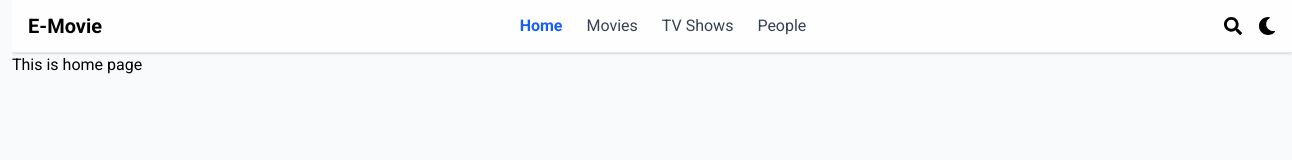
Scenario: test urls work in navbar home,people and tv shows
This screenshot has width=1292, height=160.
What coordinates should you click on to do the following:
click the link "Home"
I would click on:
 (541, 26)
Its box is [520, 14, 562, 38].
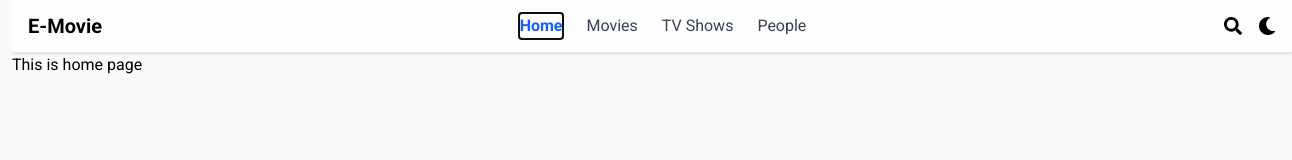
Check: the text "This is home page" is shown, box [12, 55, 142, 74]
What coordinates should you click on to do the following:
click the link "Movies"
I would click on:
 (612, 26)
Its box is [586, 14, 638, 38].
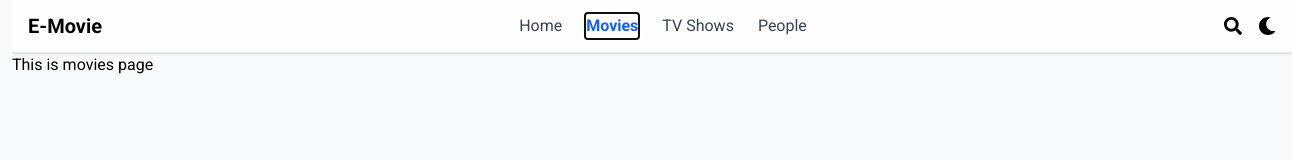
Check: the text "This is movies page" is shown, box [12, 55, 153, 74]
What coordinates should you click on to do the following:
click the link "TV Shows"
I would click on:
 (698, 26)
Its box is [662, 14, 734, 38].
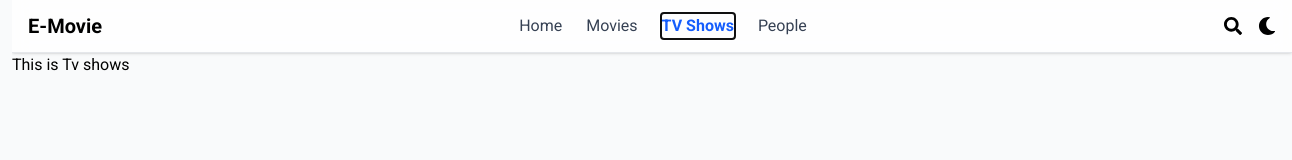
Check: the text "This is Tv shows" is shown, box [12, 55, 130, 74]
What coordinates should you click on to do the following:
click the link "People"
I would click on:
 (782, 26)
Its box is [758, 14, 807, 38].
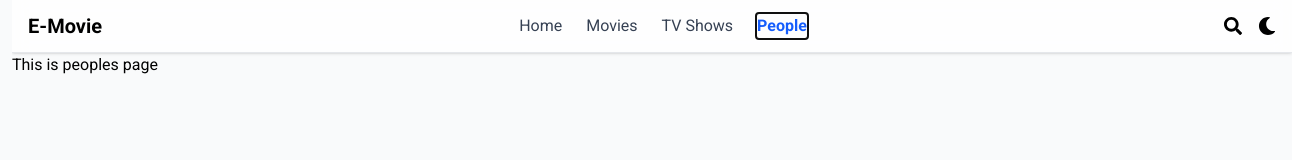
Check: the text "This is peoples page" is shown, box [12, 55, 158, 74]
